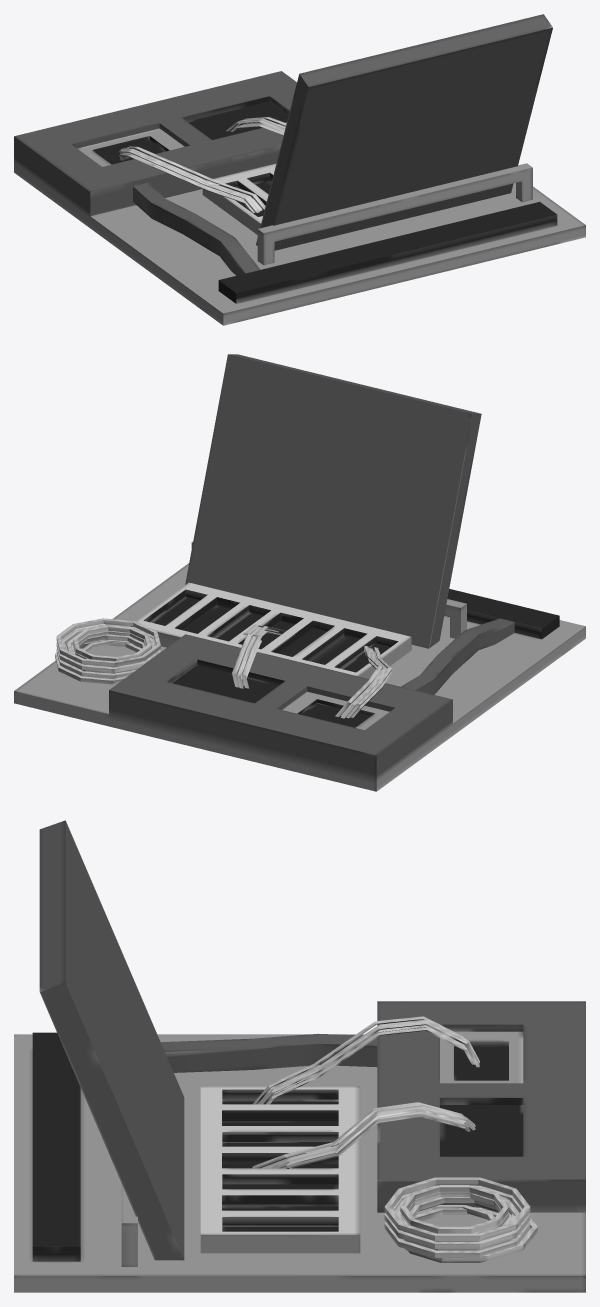
File: Misc_Tech_D.fbx
The picture shows the model from 3 angles, top to bottom: view 1: azimuth 30°, elevation 25°; view 2: azimuth 150°, elevation 25°; view 3: azimuth 270°, elevation 25°; orthographic projection. The views are drawn at different scales.
Visible parts, largest first — view 1: Misc_Tech_D; view 2: Misc_Tech_D; view 3: Misc_Tech_D.
Part boxes in pixels (x1,y1,x2,y2): Misc_Tech_D: (14,14,585,325); Misc_Tech_D: (14,354,585,791); Misc_Tech_D: (14,820,585,1292).
Bounding box in the file's own units: 200 × 116 × 200.
